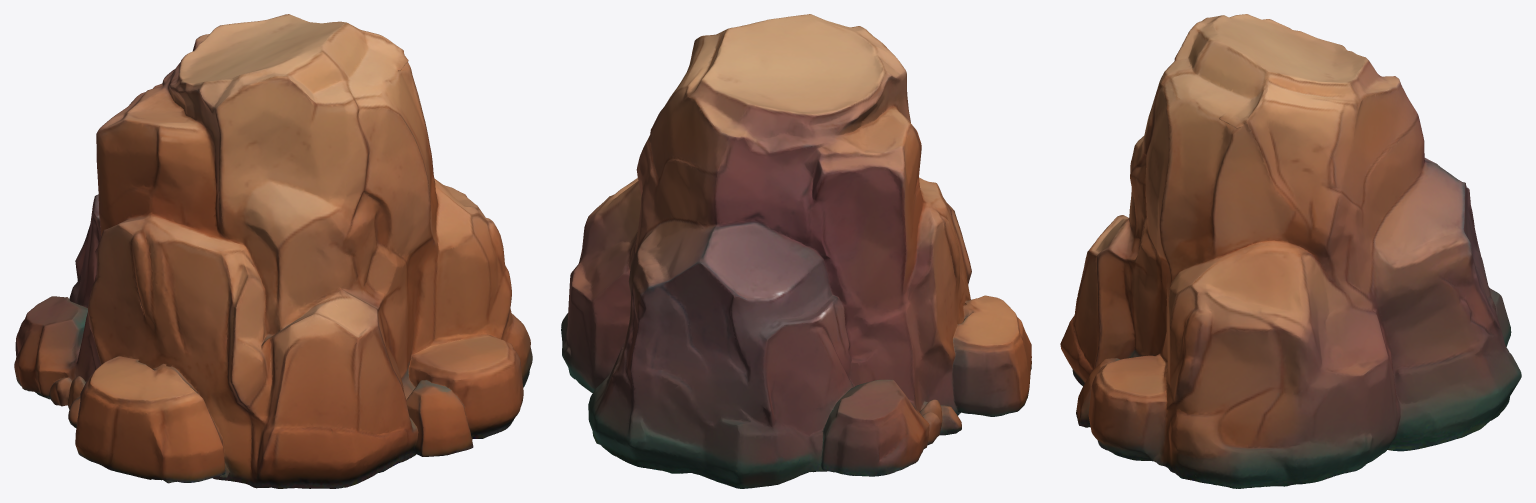
Rendered from dekor-09.glb.
3 renders of one model, left to right at view 1: azimuth 30°, elevation 25°; view 2: azimuth 150°, elevation 25°; view 3: azimuth 270°, elevation 25°, orthographic. The views are drawn at different scales.
Parts seen in each view (by area): view 1: geometry_0; view 2: geometry_0; view 3: geometry_0.
Part boxes in pixels (x1=…): geometry_0: x1=14, y1=14, x2=532, y2=488; geometry_0: x1=561, y1=14, x2=1031, y2=488; geometry_0: x1=1060, y1=14, x2=1521, y2=488.
Bounding box in the file's own units: 1 × 0.8005 × 0.9303.
1 material, 1 textured.
